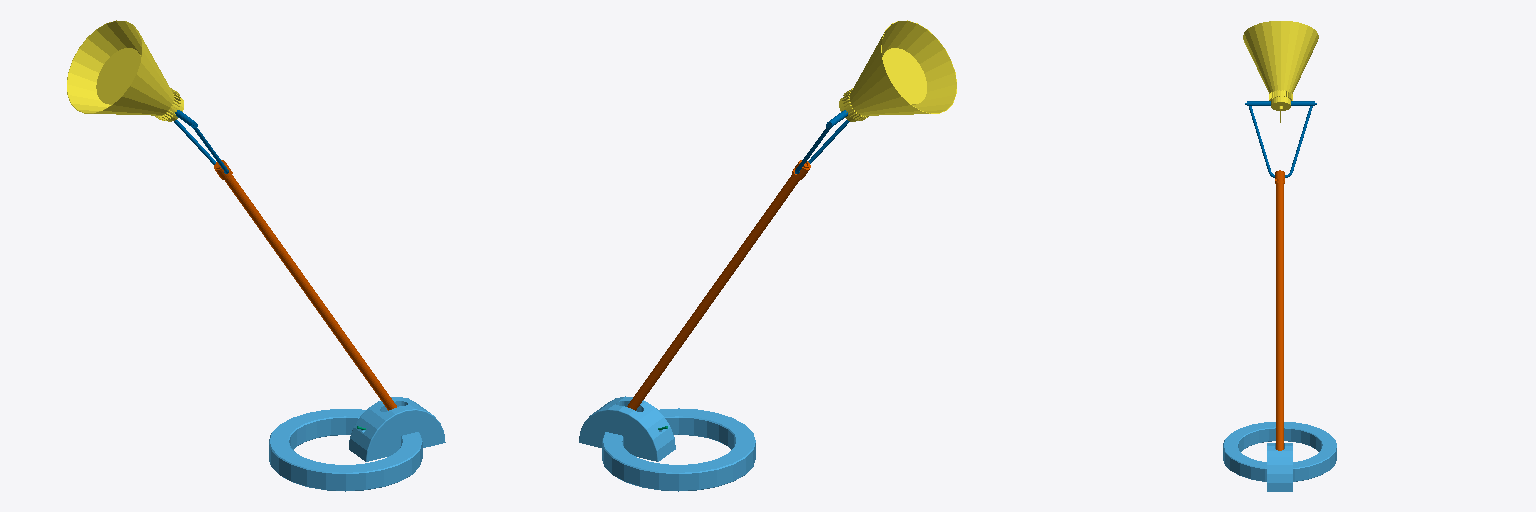
URDF robot description (partnet_8c5f6d5f0ad51f1a45c8b1285cb15c2c):
<?xml version="1.0" ?>
<robot name="partnet_8c5f6d5f0ad51f1a45c8b1285cb15c2c">
	<link name="base"/>
	<link name="link_0">
		<visual name="lamp_base_part-26">
			<origin xyz="0 0 0"/>
			<geometry>
				<mesh filename="textured_objs/original-1.obj"/>
			</geometry>
		</visual>
		<visual name="lamp_base_part-26">
			<origin xyz="0 0 0"/>
			<geometry>
				<mesh filename="textured_objs/original-2.obj"/>
			</geometry>
		</visual>
		<collision>
			<origin xyz="0 0 0"/>
			<geometry>
				<mesh filename="textured_objs/original-1.obj"/>
			</geometry>
		</collision>
		<collision>
			<origin xyz="0 0 0"/>
			<geometry>
				<mesh filename="textured_objs/original-2.obj"/>
			</geometry>
		</collision>
	</link>
	<joint name="joint_0" type="fixed">
		<origin rpy="1.570796326794897 0 -1.570796326794897" xyz="0 0 0"/>
		<child link="link_0"/>
		<parent link="base"/>
	</joint>
	<link name="link_1">
		<visual name="movable_part-30">
			<origin xyz="0 0.38384817004224775 0.22293051537872183"/>
			<geometry>
				<mesh filename="textured_objs/original-22.obj"/>
			</geometry>
		</visual>
		<collision>
			<origin xyz="0 0.38384817004224775 0.22293051537872183"/>
			<geometry>
				<mesh filename="textured_objs/original-22.obj"/>
			</geometry>
		</collision>
	</link>
	<joint name="joint_1" type="revolute">
		<origin xyz="0 -0.38384817004224775 -0.22293051537872183"/>
		<axis xyz="1 0 0"/>
		<child link="link_1"/>
		<parent link="link_0"/>
		<limit lower="0.0" upper="0.5969026041820608"/>
	</joint>
	<link name="link_2">
		<visual name="lamp_cover_holder-17">
			<origin xyz="0 -0.607060580904782 -0.32569937741512794"/>
			<geometry>
				<mesh filename="textured_objs/original-7.obj"/>
			</geometry>
		</visual>
		<visual name="light_bulb-20">
			<origin xyz="0 -0.607060580904782 -0.32569937741512794"/>
			<geometry>
				<mesh filename="textured_objs/original-19.obj"/>
			</geometry>
		</visual>
		<visual name="lamp_finial-21">
			<origin xyz="0 -0.607060580904782 -0.32569937741512794"/>
			<geometry>
				<mesh filename="textured_objs/original-8.obj"/>
			</geometry>
		</visual>
		<visual name="lamp_shade-23">
			<origin xyz="0 -0.607060580904782 -0.32569937741512794"/>
			<geometry>
				<mesh filename="textured_objs/original-6.obj"/>
			</geometry>
		</visual>
		<collision>
			<origin xyz="0 -0.607060580904782 -0.32569937741512794"/>
			<geometry>
				<mesh filename="textured_objs/original-7.obj"/>
			</geometry>
		</collision>
		<collision>
			<origin xyz="0 -0.607060580904782 -0.32569937741512794"/>
			<geometry>
				<mesh filename="textured_objs/original-19.obj"/>
			</geometry>
		</collision>
		<collision>
			<origin xyz="0 -0.607060580904782 -0.32569937741512794"/>
			<geometry>
				<mesh filename="textured_objs/original-8.obj"/>
			</geometry>
		</collision>
		<collision>
			<origin xyz="0 -0.607060580904782 -0.32569937741512794"/>
			<geometry>
				<mesh filename="textured_objs/original-6.obj"/>
			</geometry>
		</collision>
	</link>
	<joint name="joint_2" type="revolute">
		<origin xyz="0 0.20068612966766186 0.14518520494057527"/>
		<axis xyz="-1 0 0"/>
		<child link="link_2"/>
		<parent link="link_3"/>
		<limit lower="-6.283185307179586" upper="-1.7781414419318229"/>
	</joint>
	<link name="link_3">
		<visual name="lamp_arm_straight_bar-13">
			<origin xyz="0 -0.4063744512371201 -0.18051417247455268"/>
			<geometry>
				<mesh filename="textured_objs/original-17.obj"/>
			</geometry>
		</visual>
		<visual name="lamp_arm_straight_bar-14">
			<origin xyz="0 -0.4063744512371201 -0.18051417247455268"/>
			<geometry>
				<mesh filename="textured_objs/original-14.obj"/>
			</geometry>
		</visual>
		<visual name="other_leaf-16">
			<origin xyz="0 -0.4063744512371201 -0.18051417247455268"/>
			<geometry>
				<mesh filename="textured_objs/original-15.obj"/>
			</geometry>
		</visual>
		<visual name="other_leaf-16">
			<origin xyz="0 -0.4063744512371201 -0.18051417247455268"/>
			<geometry>
				<mesh filename="textured_objs/original-18.obj"/>
			</geometry>
		</visual>
		<visual name="other_leaf-16">
			<origin xyz="0 -0.4063744512371201 -0.18051417247455268"/>
			<geometry>
				<mesh filename="textured_objs/original-21.obj"/>
			</geometry>
		</visual>
		<visual name="other_leaf-16">
			<origin xyz="0 -0.4063744512371201 -0.18051417247455268"/>
			<geometry>
				<mesh filename="textured_objs/original-20.obj"/>
			</geometry>
		</visual>
		<collision>
			<origin xyz="0 -0.4063744512371201 -0.18051417247455268"/>
			<geometry>
				<mesh filename="textured_objs/original-17.obj"/>
			</geometry>
		</collision>
		<collision>
			<origin xyz="0 -0.4063744512371201 -0.18051417247455268"/>
			<geometry>
				<mesh filename="textured_objs/original-14.obj"/>
			</geometry>
		</collision>
		<collision>
			<origin xyz="0 -0.4063744512371201 -0.18051417247455268"/>
			<geometry>
				<mesh filename="textured_objs/original-15.obj"/>
			</geometry>
		</collision>
		<collision>
			<origin xyz="0 -0.4063744512371201 -0.18051417247455268"/>
			<geometry>
				<mesh filename="textured_objs/original-18.obj"/>
			</geometry>
		</collision>
		<collision>
			<origin xyz="0 -0.4063744512371201 -0.18051417247455268"/>
			<geometry>
				<mesh filename="textured_objs/original-21.obj"/>
			</geometry>
		</collision>
		<collision>
			<origin xyz="0 -0.4063744512371201 -0.18051417247455268"/>
			<geometry>
				<mesh filename="textured_objs/original-20.obj"/>
			</geometry>
		</collision>
	</link>
	<joint name="joint_3" type="revolute">
		<origin xyz="0 0.8059939749692775 0.49883842124574385"/>
		<axis xyz="1 0 0"/>
		<child link="link_3"/>
		<parent link="link_4"/>
		<limit lower="0.0" upper="2.1802653015913163"/>
	</joint>
	<link name="link_4">
		<visual name="lamp_pole-24">
			<origin xyz="0 0.39961952373215737 0.31832424877119114"/>
			<geometry>
				<mesh filename="textured_objs/original-4.obj"/>
			</geometry>
		</visual>
		<visual name="connector-12">
			<origin xyz="0 0.39961952373215737 0.31832424877119114"/>
			<geometry>
				<mesh filename="textured_objs/original-11.obj"/>
			</geometry>
		</visual>
		<visual name="connector-12">
			<origin xyz="0 0.39961952373215737 0.31832424877119114"/>
			<geometry>
				<mesh filename="textured_objs/original-10.obj"/>
			</geometry>
		</visual>
		<collision>
			<origin xyz="0 0.39961952373215737 0.31832424877119114"/>
			<geometry>
				<mesh filename="textured_objs/original-4.obj"/>
			</geometry>
		</collision>
		<collision>
			<origin xyz="0 0.39961952373215737 0.31832424877119114"/>
			<geometry>
				<mesh filename="textured_objs/original-11.obj"/>
			</geometry>
		</collision>
		<collision>
			<origin xyz="0 0.39961952373215737 0.31832424877119114"/>
			<geometry>
				<mesh filename="textured_objs/original-10.obj"/>
			</geometry>
		</collision>
	</link>
	<joint name="joint_4" type="revolute">
		<origin xyz="0 -0.39961952373215737 -0.31832424877119114"/>
		<axis xyz="1 0 0"/>
		<child link="link_4"/>
		<parent link="link_0"/>
		<limit lower="-0.48380526865282764" upper="0.16336281798666924"/>
	</joint>
</robot>

--- What the picture shows (computed from the rendered views, not written in the file) ---
The picture shows the robot from 3 angles, left to right: view 1: azimuth 30°, elevation 25°; view 2: azimuth 150°, elevation 25°; view 3: azimuth 270°, elevation 25°; orthographic projection.
Model partnet_8c5f6d5f0ad51f1a45c8b1285cb15c2c with 6 links and 5 joints (4 revolute, 1 fixed), rooted at base, posed joints at zero except 1 at the middle of their limits (joint_2 = -4.03).
Visible links, largest first — view 1: link_0, link_2, link_4, link_3; view 2: link_0, link_2, link_4, link_3; view 3: link_0, link_2, link_4, link_3.
Boxes of the visible links, x1,y1,x2,y2 form: link_0: (269, 397, 445, 491); link_2: (67, 20, 183, 121); link_4: (214, 160, 396, 410); link_3: (174, 110, 228, 173); link_0: (579, 396, 755, 491); link_2: (839, 20, 956, 121); link_4: (627, 160, 810, 410); link_3: (795, 110, 849, 173); link_0: (1223, 422, 1336, 491); link_2: (1243, 21, 1318, 122); link_4: (1275, 170, 1284, 450); link_3: (1245, 101, 1316, 177).
Bounding box of the posed robot: 1.02 × 0.3774 × 1.31 m (x, y, z).
16 mesh visuals loaded from 16 distinct referenced files (16 OBJ).
